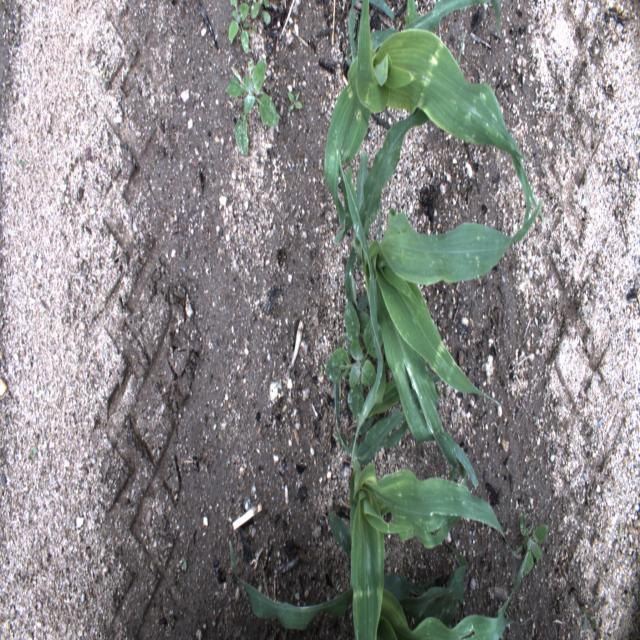crop: (332, 107, 544, 488), (230, 371, 515, 639), (323, 0, 549, 235)
weed: (323, 297, 377, 424), (225, 57, 280, 154), (519, 514, 550, 579), (225, 2, 252, 55), (250, 2, 275, 28), (288, 86, 305, 112), (180, 546, 192, 576), (29, 441, 42, 462)
